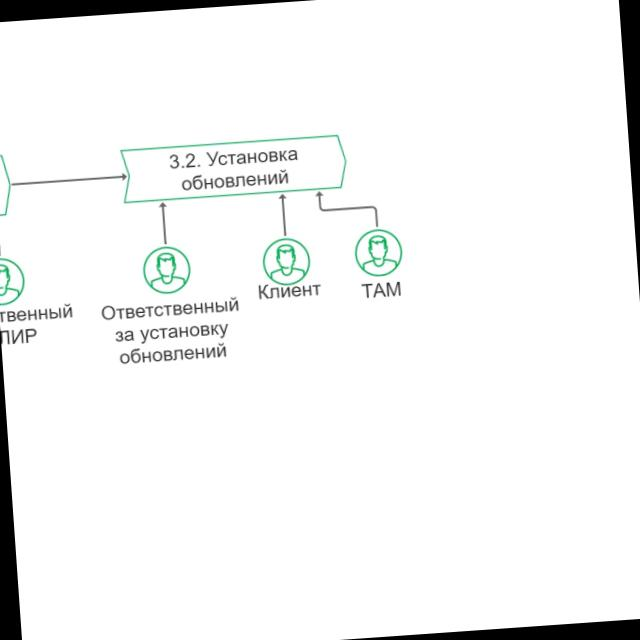arrow: (7, 164, 129, 193)
rectangle: (119, 131, 351, 205)
text_region: (98, 293, 245, 370), (254, 276, 324, 304), (360, 279, 404, 301)
